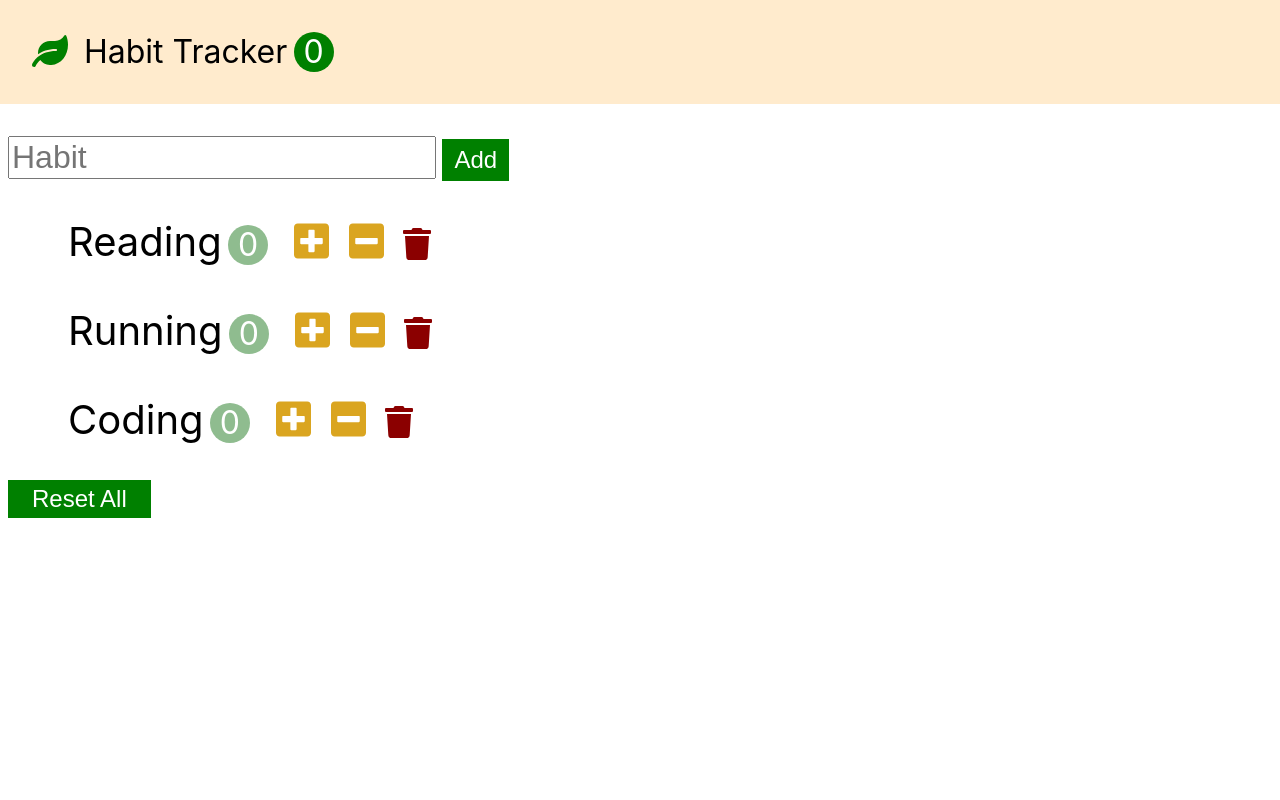
habit tracer › reset all
Step 1. Type "Testing" into the field with placeholder "Habit" → (222, 158), box [8,136,436,179]
Step 2. Click the button "Add" → (476, 160), box [442,139,509,181]
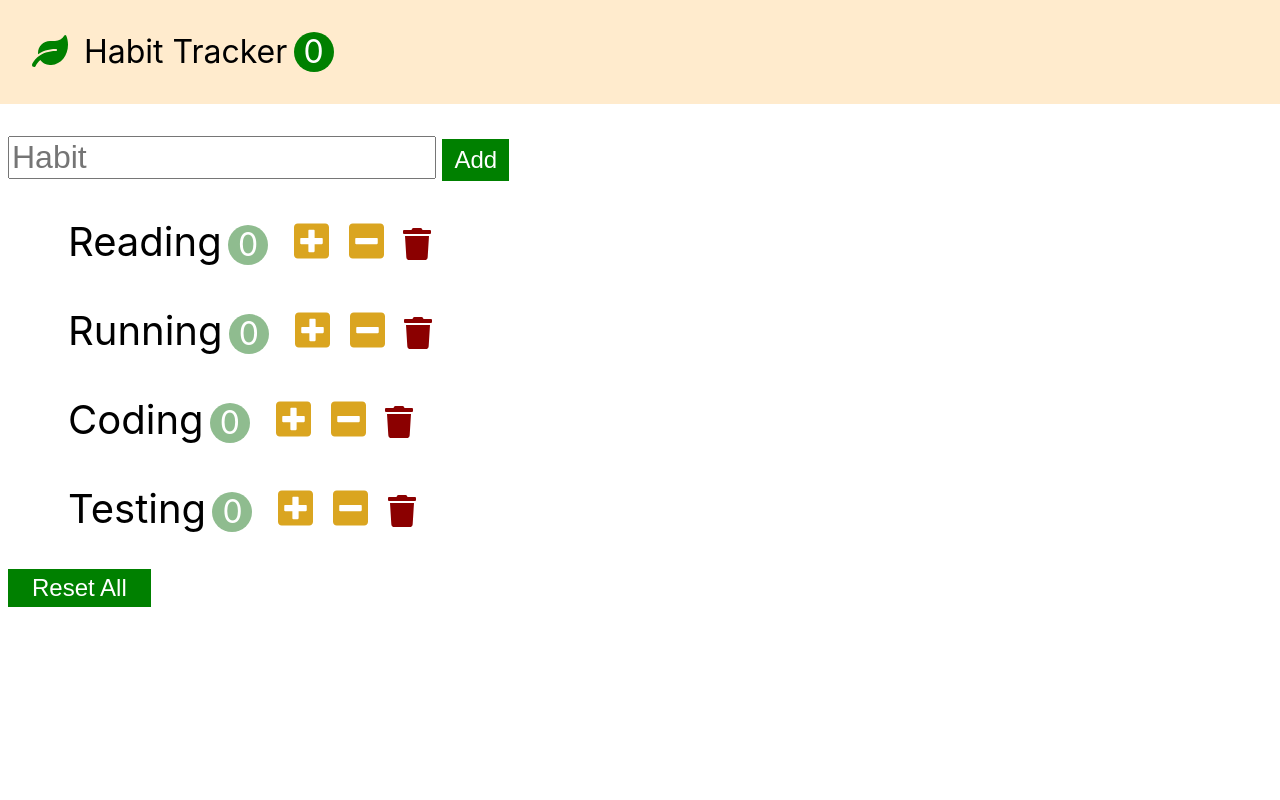
Step 3. Click the button titled "increase" in the row of "Reading" → (312, 243), box [288,219,335,266]
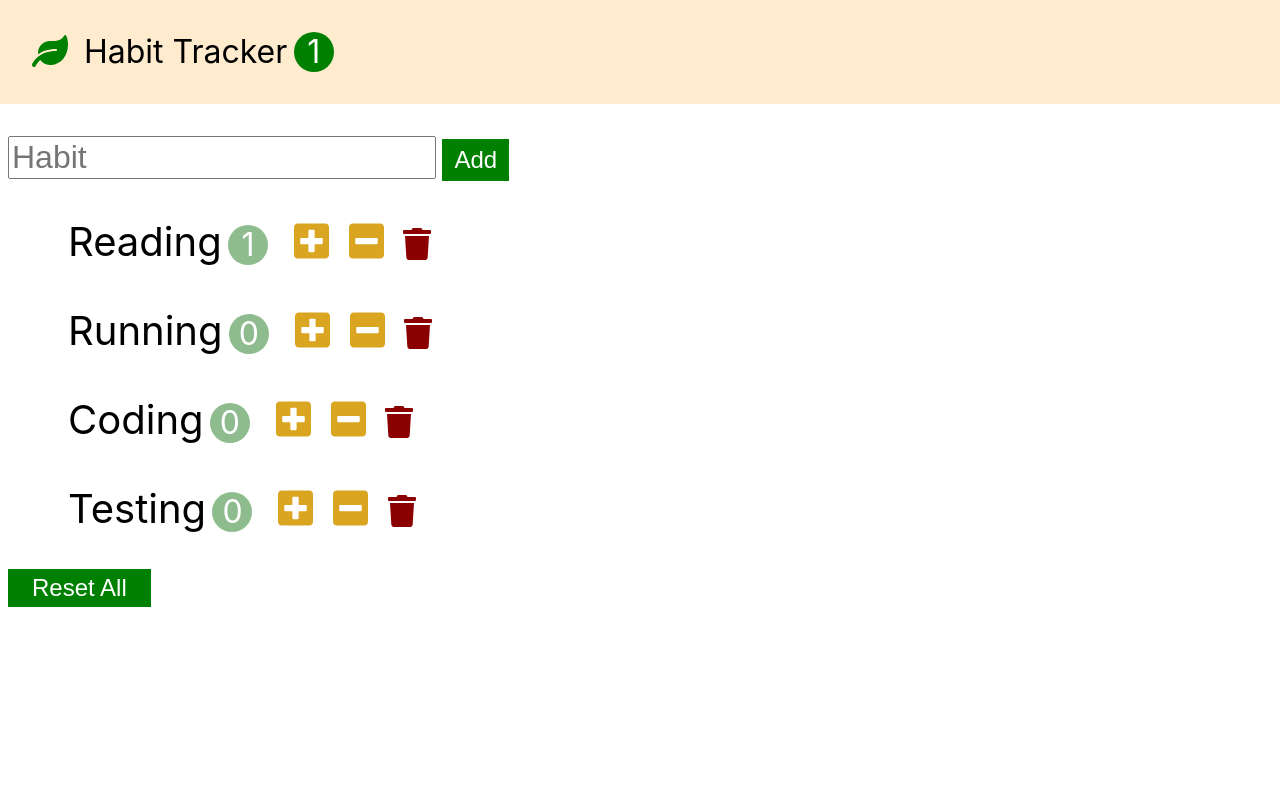
Step 4. Click the button titled "increase" in the row of "Testing" → (297, 510), box [273,486,320,533]
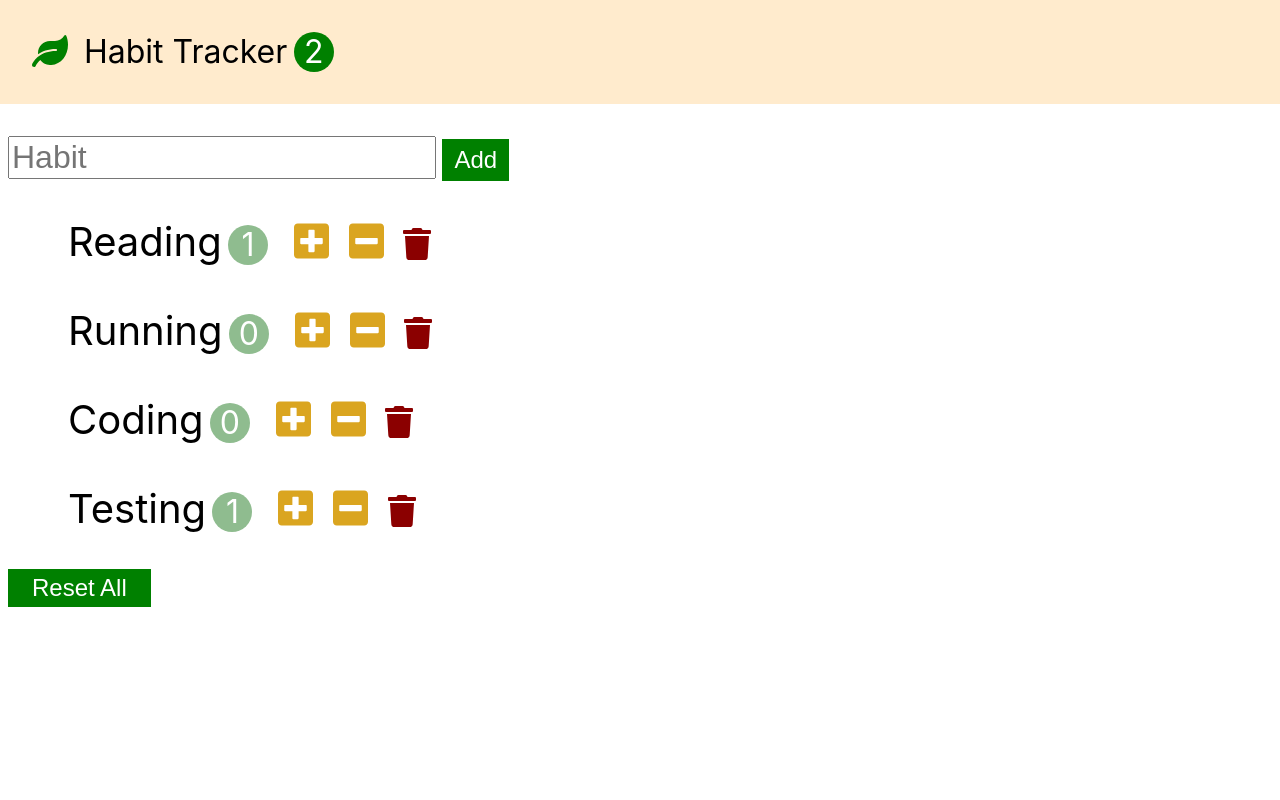
Step 5. Click the button titled "increase" in the row of "Testing" → (297, 510), box [273,486,320,533]
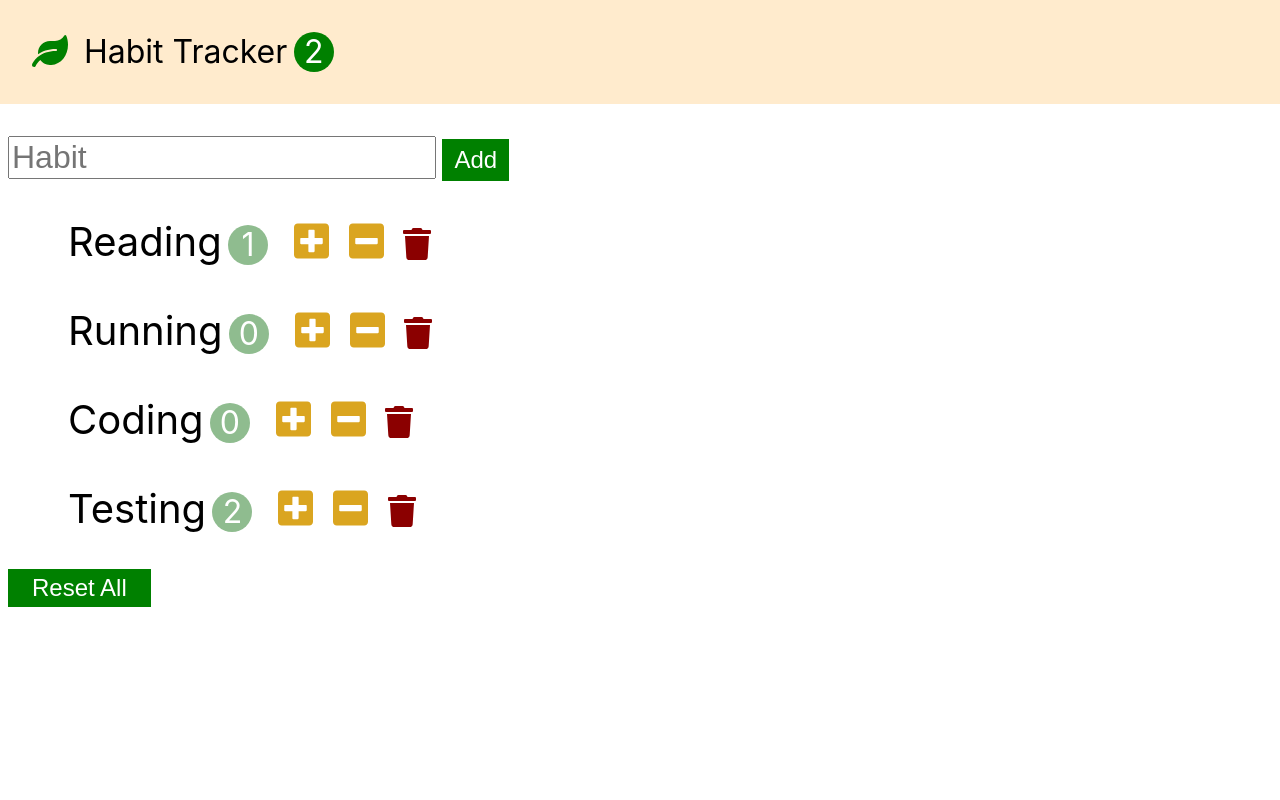
Step 6. Click the button titled "increase" in the row of "Testing" → (297, 510), box [273,486,320,533]
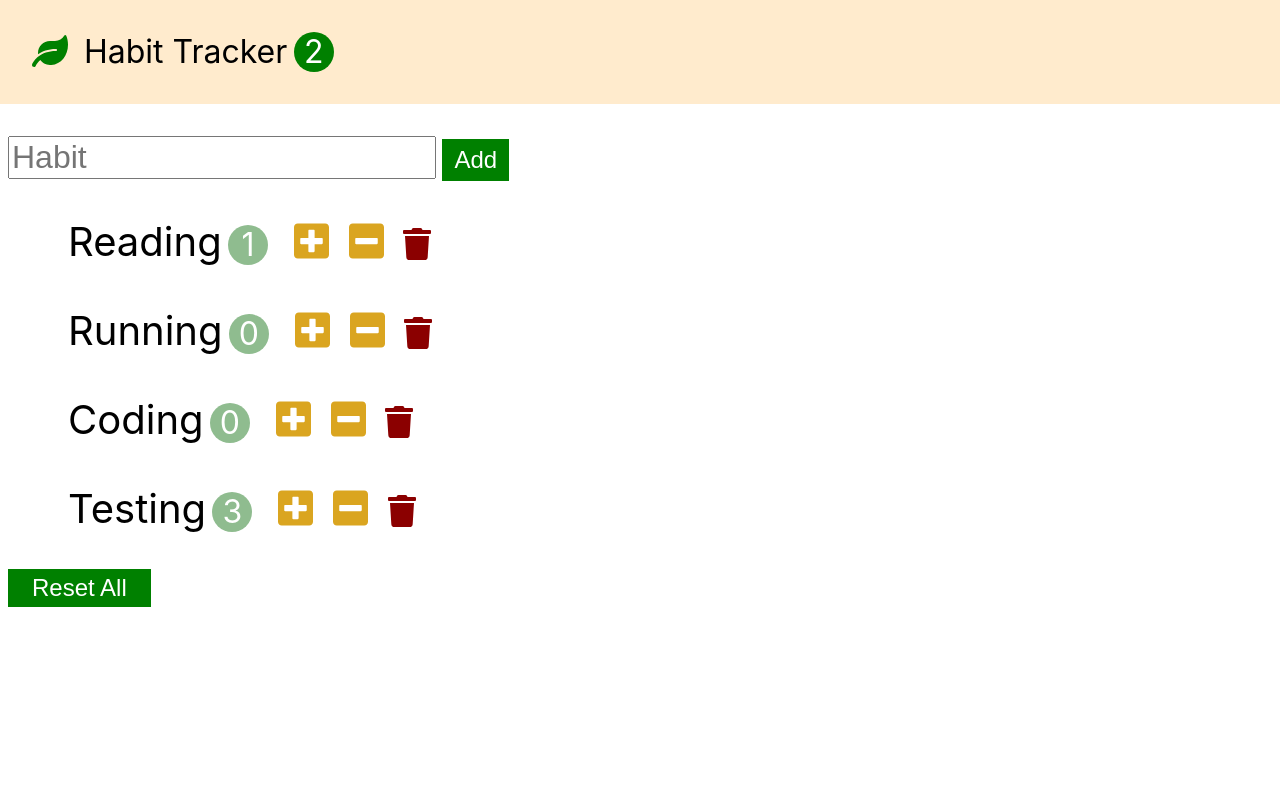
Step 7. Click the button "Reset All" → (80, 588), box [8,569,151,607]
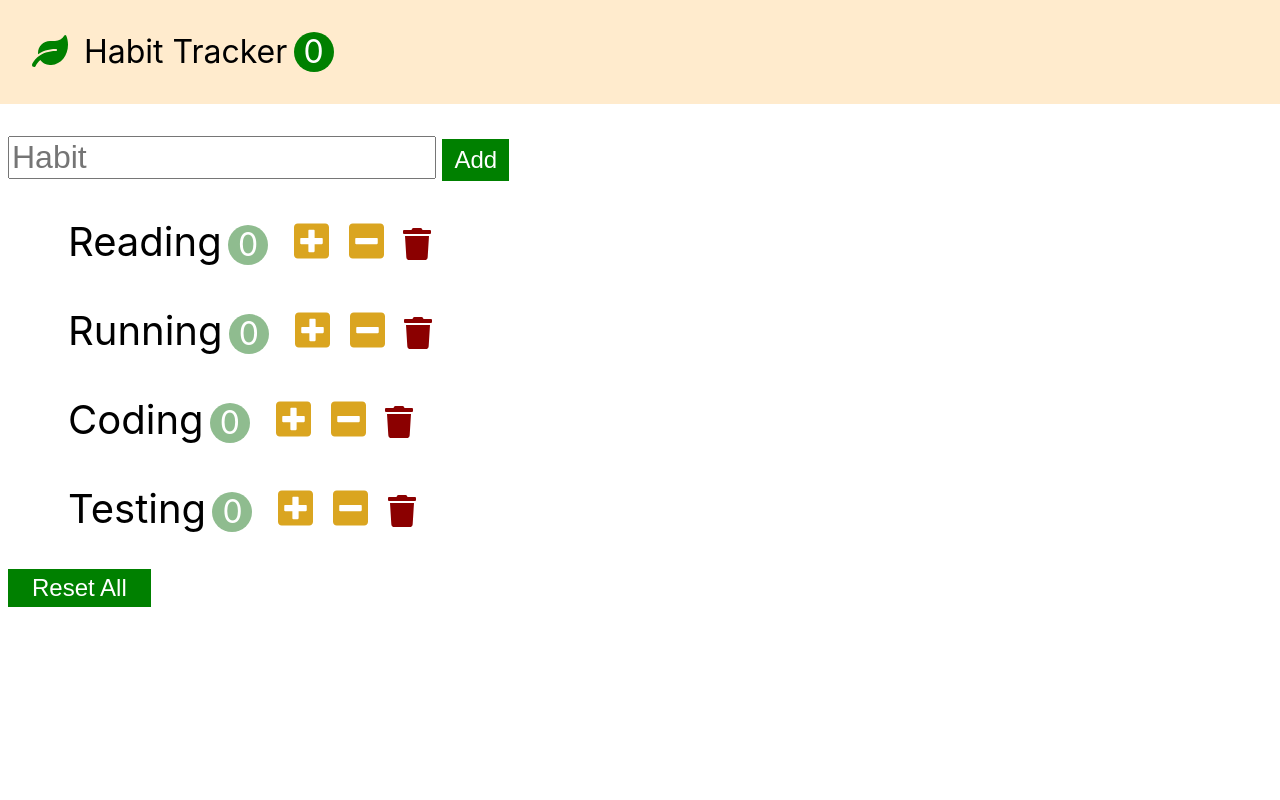
Result: the text with test id "habit-count" next to "Reading" reads "0" at [228,225,268,265]
Result: the text with test id "habit-count" next to "Testing" reads "0" at [213,492,253,532]
Result: the text with test id "total-count" reads "0" at [294,32,334,72]
